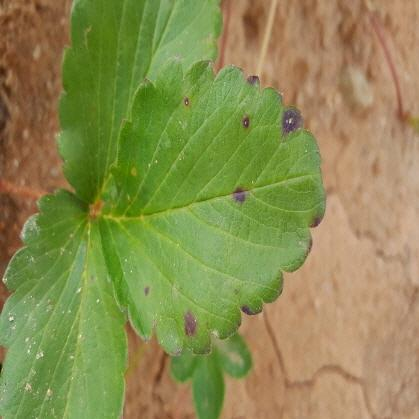Leaf Spot: (94, 57, 327, 358), (0, 188, 128, 418)
